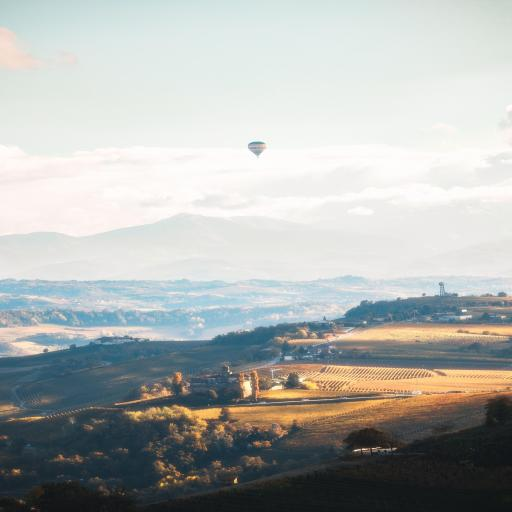hot air ballon: (248, 141, 267, 158)
